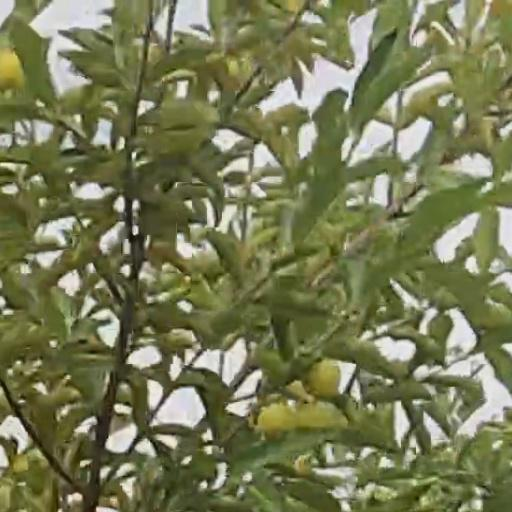acerola_verde: (306, 362, 339, 397), (259, 405, 292, 434), (1, 55, 25, 86)
